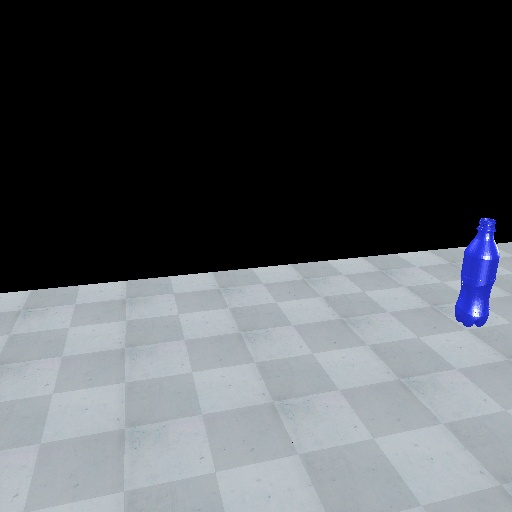bottle: (453, 216, 501, 329)
